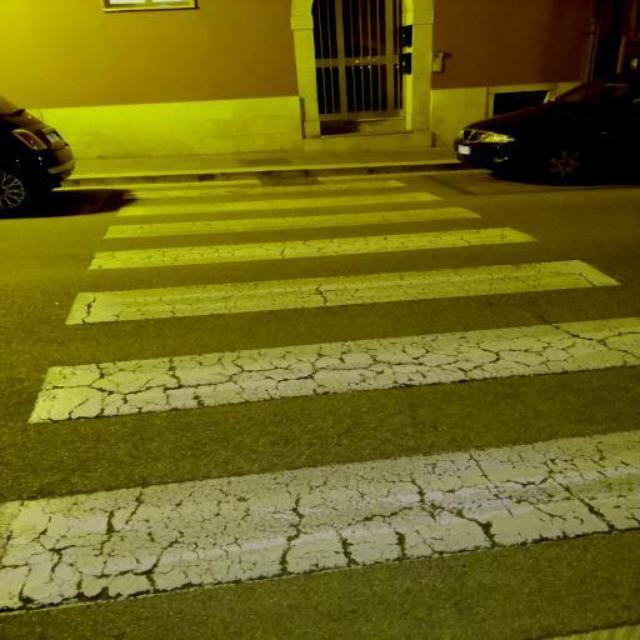sidewalk: (0, 179, 639, 616)
